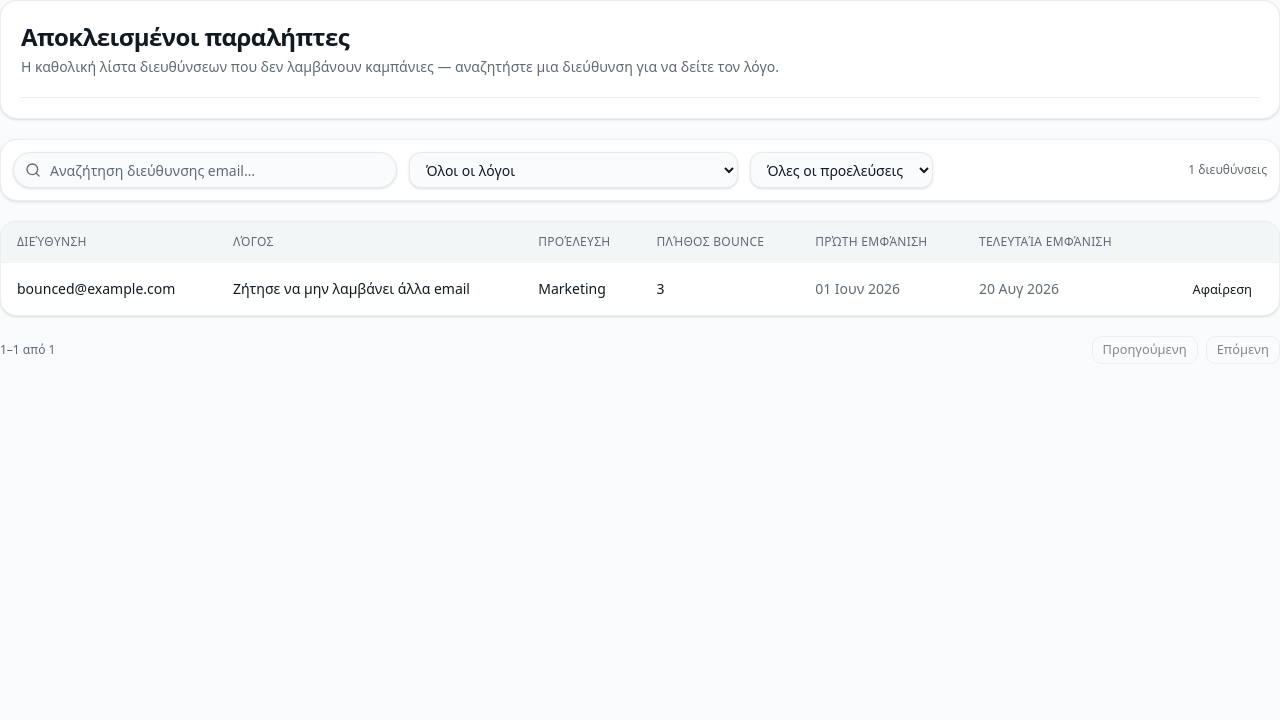
Scenario: SuppressionsPage › warns specifically that the person asked to stop when the reason is "unsubscribed"
Step 1. Click the button "Αφαίρεση" → click(1222, 289), box [1182,275,1263,303]
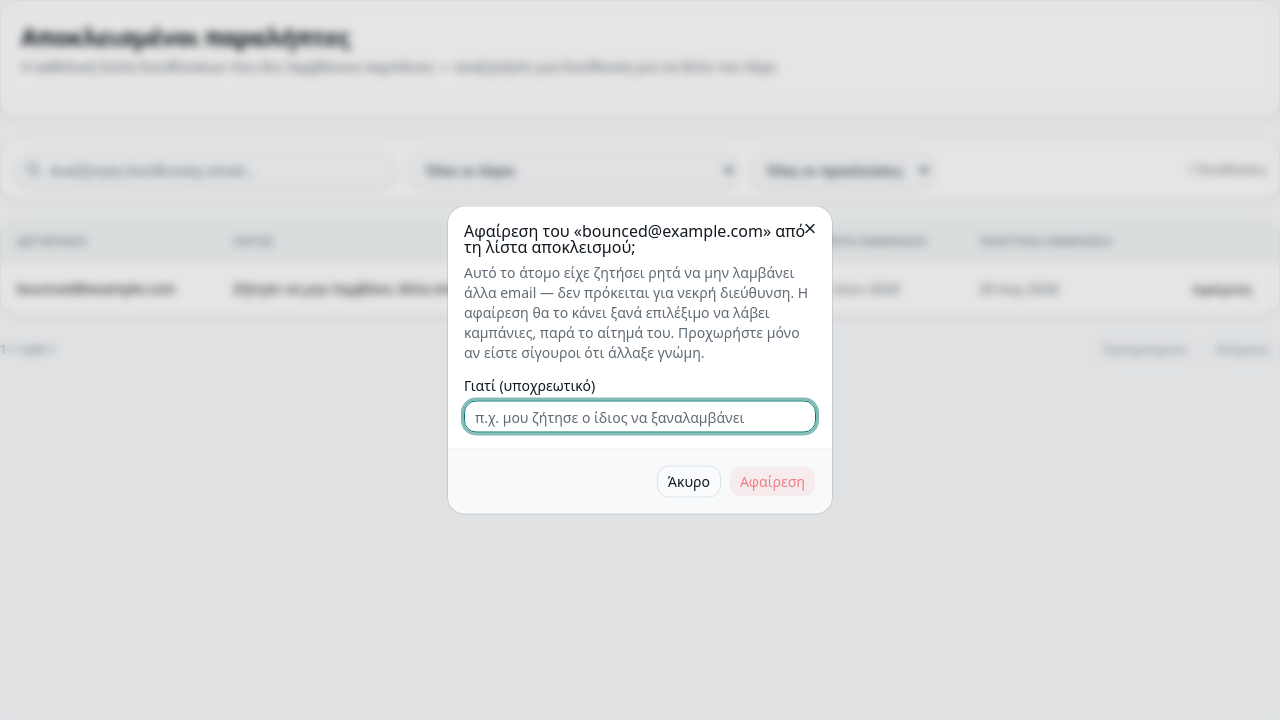
Expected: the text "ζητήσει ρητά να μην λαμβάνει άλλα email" is shown, [464,262,808,362]
